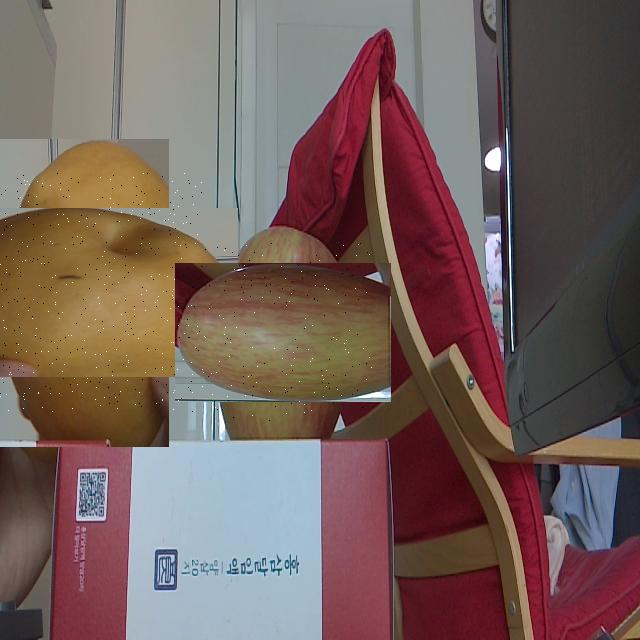apple: (195, 243, 372, 421)
pear: (0, 173, 203, 412)
